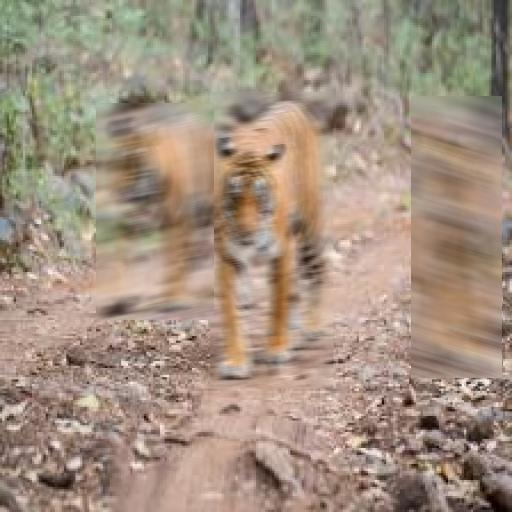Tiger: (210, 92, 333, 388), (411, 96, 502, 378), (96, 103, 214, 320)
